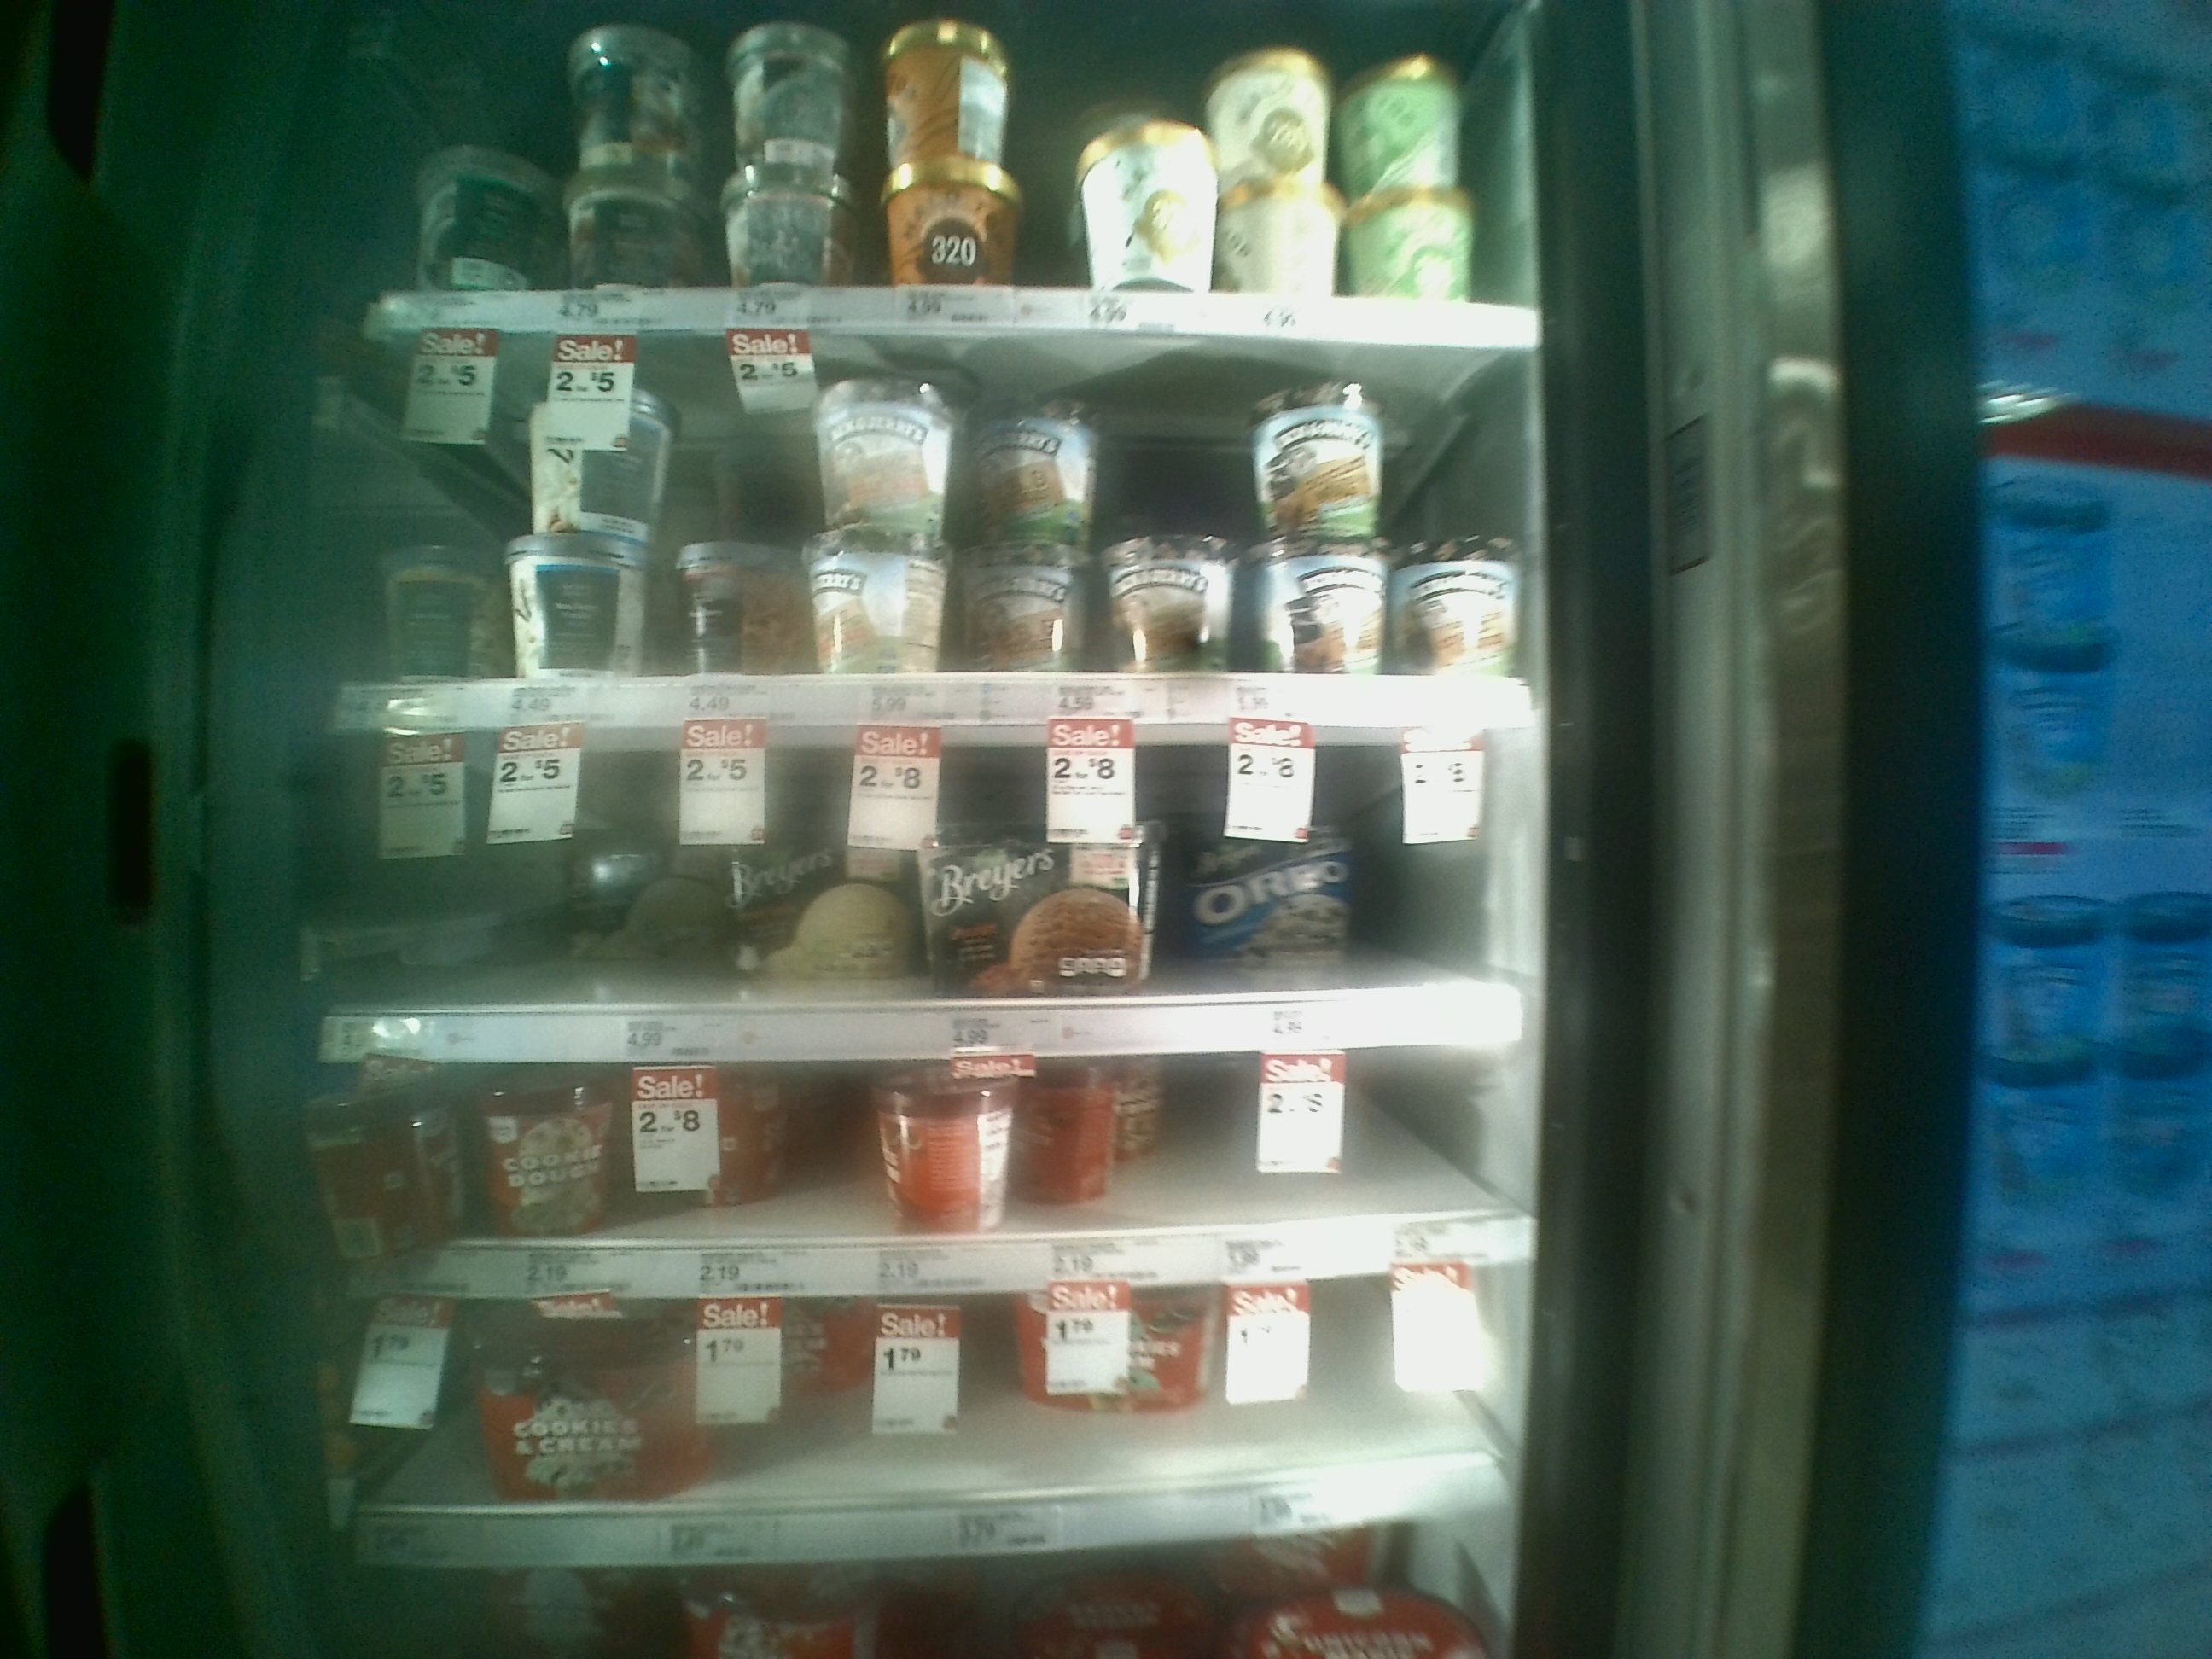shelf: (341, 322, 1555, 727), (340, 721, 1555, 1047), (326, 1293, 1536, 1572), (326, 1044, 1564, 1297)
